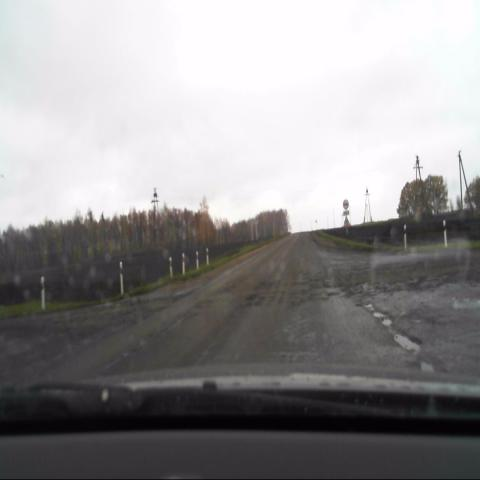1_15: (342, 217, 351, 227)
3_20: (342, 198, 349, 210)
